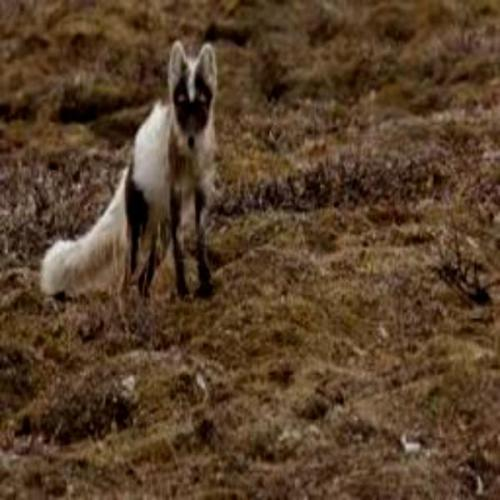arctic_fox-endangered: (54, 52, 227, 286)
